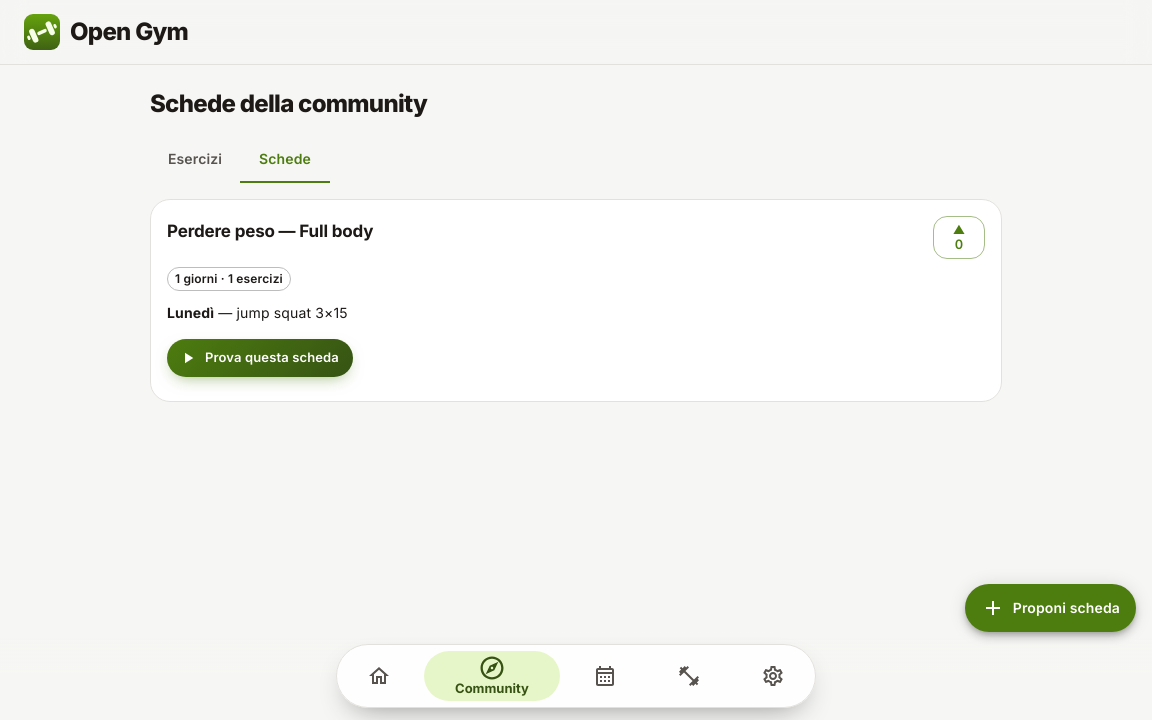
Test: le schede proposte dalla community › «Prova questa scheda» la importa tra le mie e la attiva
This screenshot has width=1152, height=720.
What coordinates should you click on to do the following:
click the button "Prova questa scheda"
I would click on:
 (260, 358)
Its box is x1=167 y1=339 x2=353 y2=377.
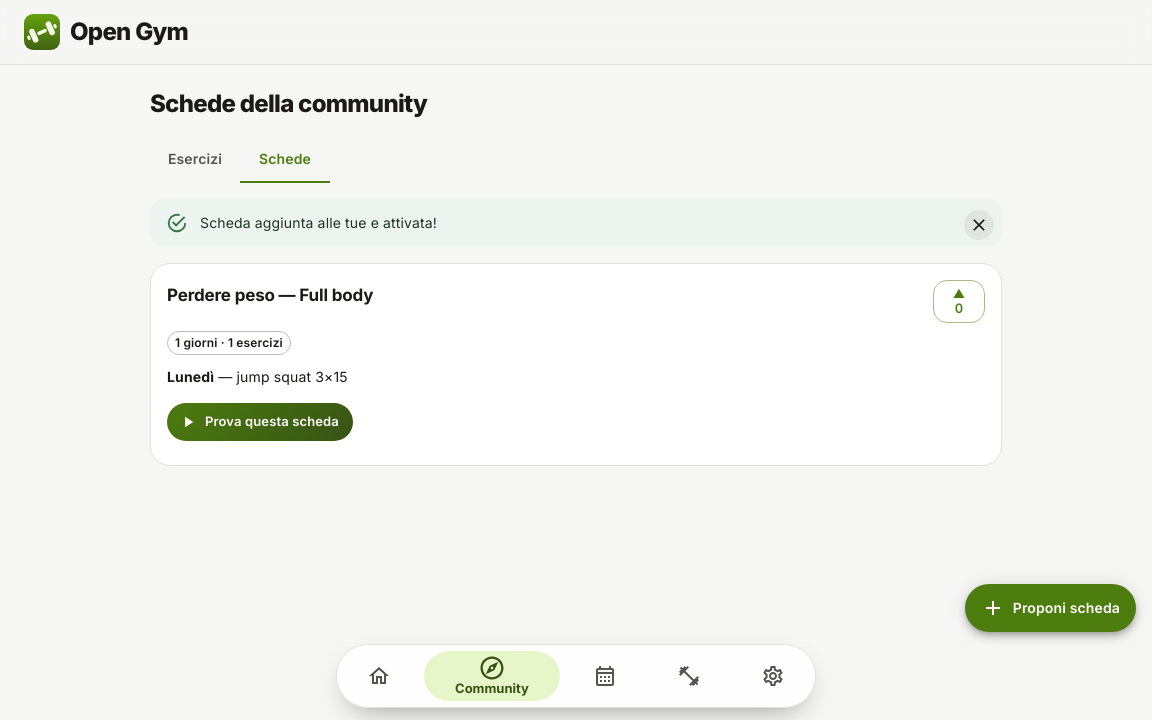
Expected: the text "Scheda aggiunta alle tue e attivata!" is shown, x1=200 y1=214 x2=437 y2=231
// Nella vista Schede la scheda c'è davvero, già attiva (badge, niente bottone «Attiva»)
What coordinates should you click on to do the following:
click the button named "Schede"
I would click on:
 (605, 676)
Its box is x1=566 y1=651 x2=644 y2=701.
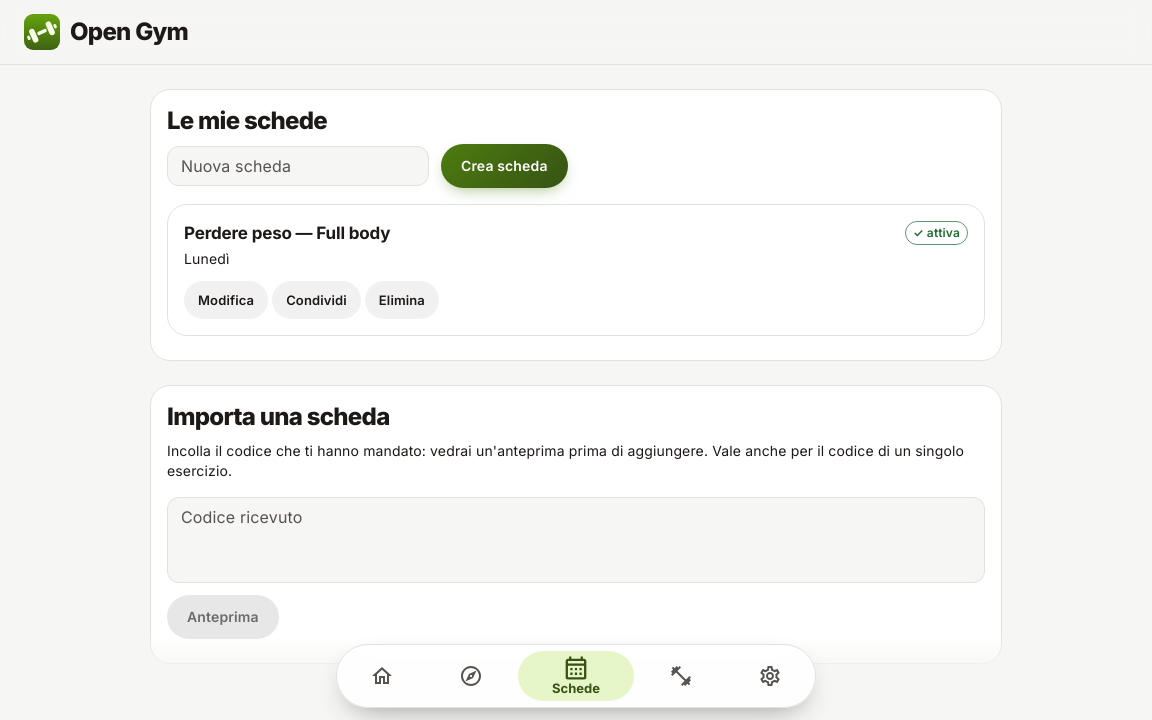
Expected: the heading "Perdere peso — Full body" is shown, x1=184 y1=222 x2=390 y2=245
Expected: the text "✓ attiva" is shown, x1=913 y1=225 x2=960 y2=240
